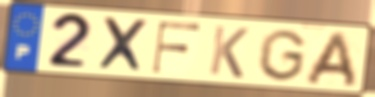2: (43, 11, 98, 72)
A: (302, 30, 360, 89)
F: (149, 20, 203, 76)
G: (255, 27, 309, 83)
K: (207, 23, 251, 80)
X: (95, 16, 151, 76)
